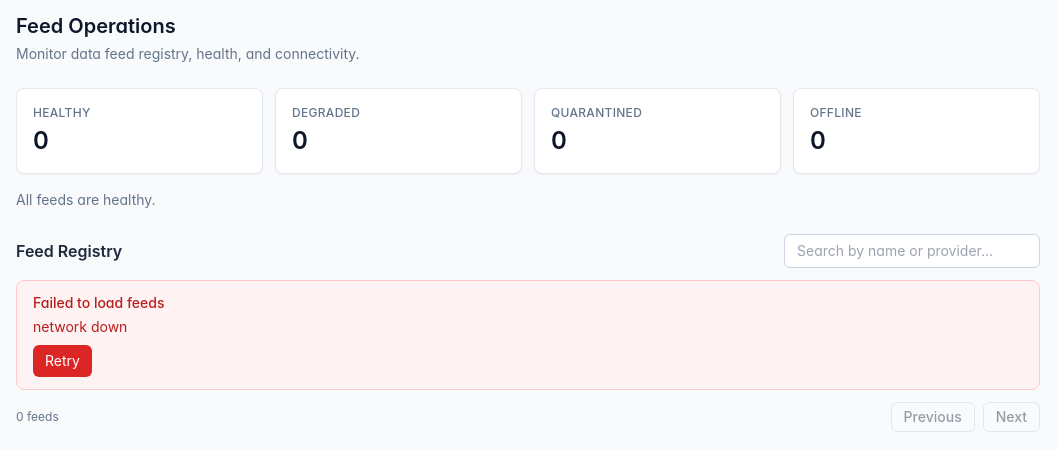
Scenario: FeedsPage › renders error state with retry on listFeeds failure
Expected: the message with test id "feeds-error" shows "network down", [33,318,127,335]
Click the button "Retry".
click(62, 361)  # box [33,345,92,377]
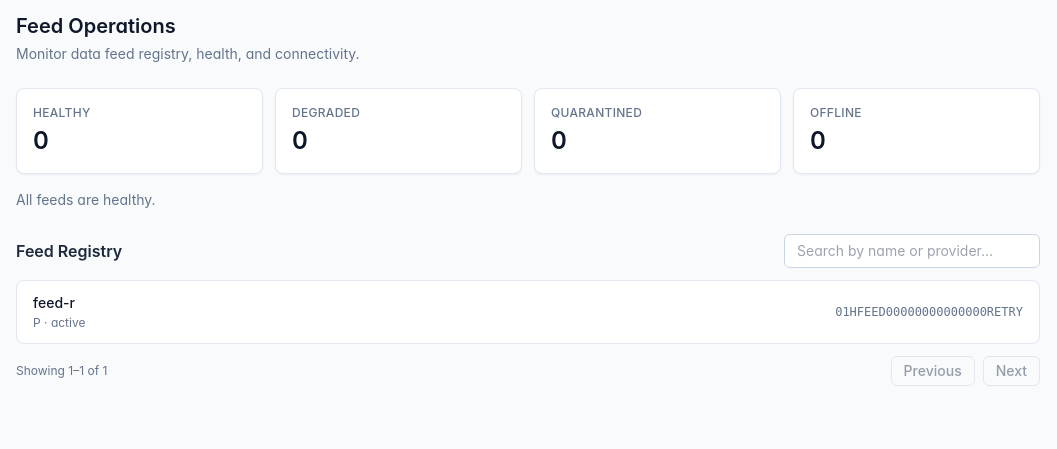
Expected: the list item with test id "feeds-row-01HFEED00000000000000RETRY" is shown, [33,294,1023,330]
